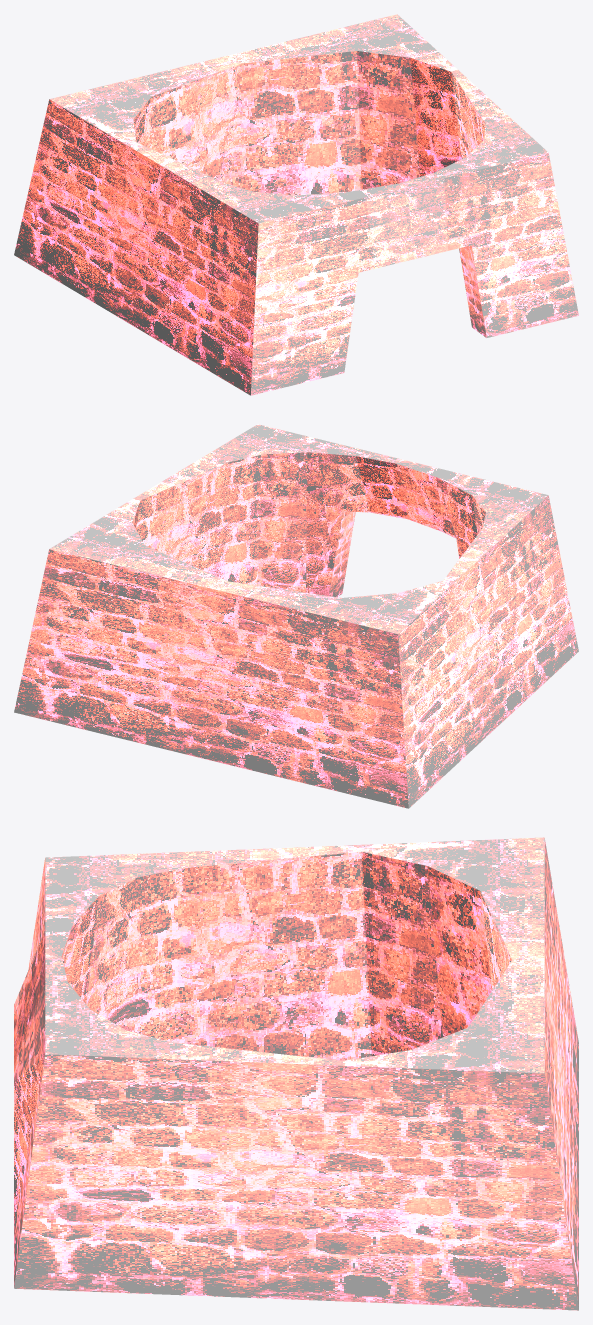
The model's file is castle_outpost1.glb.
3 renders of one model, top to bottom at view 1: azimuth 30°, elevation 25°; view 2: azimuth 150°, elevation 25°; view 3: azimuth 270°, elevation 25°, orthographic. The views are drawn at different scales.
Parts seen in each view (by area): view 1: castle_outpost1; view 2: castle_outpost1; view 3: castle_outpost1.
Boxes of the visible parts, x1=… form: castle_outpost1: x1=14, y1=14, x2=578, y2=395; castle_outpost1: x1=14, y1=424, x2=578, y2=808; castle_outpost1: x1=14, y1=837, x2=578, y2=1310.
Size of the model in its own units: 9.43 by 3.65 by 8.44.
